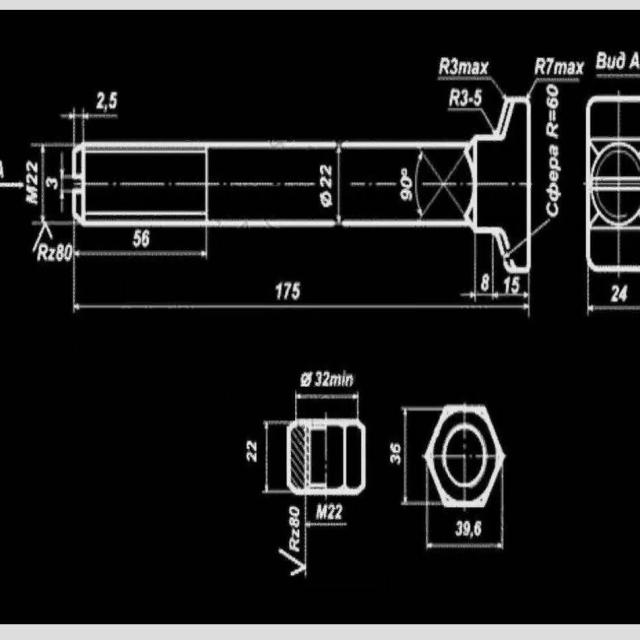marking_line: (75, 303, 529, 313), (75, 247, 206, 260), (58, 111, 118, 126), (298, 390, 357, 405), (588, 303, 640, 317), (56, 152, 68, 211), (427, 542, 502, 551), (38, 146, 47, 218), (263, 421, 272, 491), (402, 412, 408, 500)
numeric: (35, 243, 75, 269), (437, 59, 493, 77), (590, 49, 640, 69), (536, 55, 585, 75), (449, 85, 488, 108), (271, 281, 307, 305), (287, 500, 301, 556), (316, 503, 347, 523), (453, 518, 481, 540), (129, 228, 155, 251), (608, 281, 631, 306), (243, 434, 259, 469), (96, 88, 120, 110), (318, 163, 334, 188), (401, 174, 415, 202), (387, 440, 402, 466), (24, 162, 38, 186), (314, 370, 332, 388), (43, 172, 59, 192), (503, 276, 521, 293), (546, 86, 559, 108), (479, 271, 489, 289)
special_symbol: (279, 543, 307, 581), (33, 216, 57, 246), (318, 187, 335, 211), (297, 368, 315, 388)
